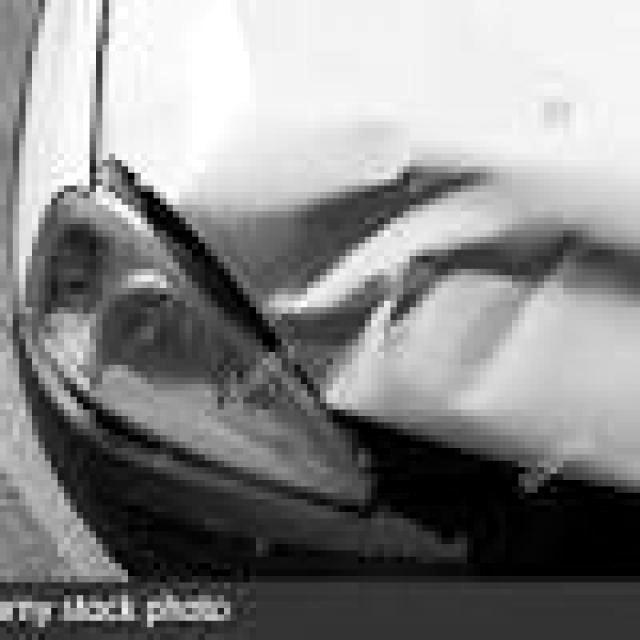Headlight-damage: (27, 190, 362, 503)
bonnet-dent: (153, 94, 634, 467)
